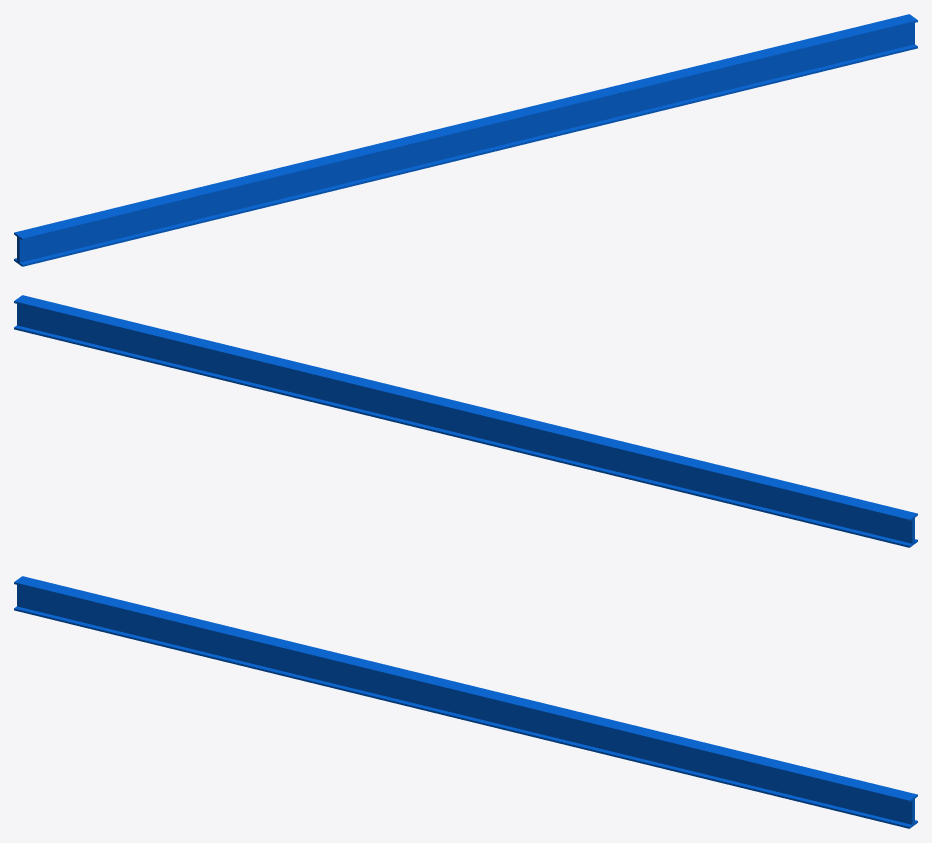
The model's file is Warehouse_03_Metal_02.fbx.
3 renders of one model, top to bottom at view 1: azimuth 30°, elevation 25°; view 2: azimuth 150°, elevation 25°; view 3: azimuth 330°, elevation 25°, orthographic.
Visible parts, largest first — view 1: Warehouse_03_Metal_02; view 2: Warehouse_03_Metal_02; view 3: Warehouse_03_Metal_02.
Boxes of the visible parts, bbox=[...] form: Warehouse_03_Metal_02: bbox=[14, 14, 917, 266]; Warehouse_03_Metal_02: bbox=[14, 295, 917, 547]; Warehouse_03_Metal_02: bbox=[14, 576, 917, 828].
Bounding box in the file's own units: 1720 × 51.7 × 28.01.
